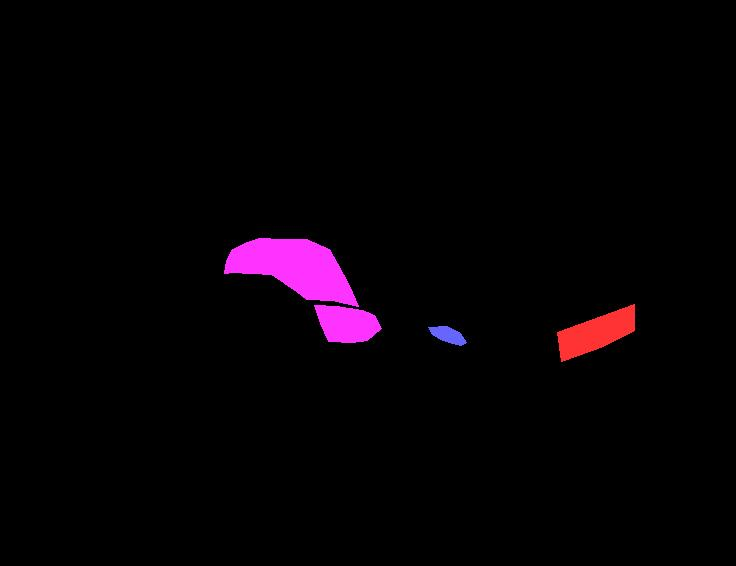Dent: (224, 238, 358, 306), (314, 305, 381, 342)
Missing part: (557, 304, 634, 361)
Scratch: (428, 326, 466, 345)
